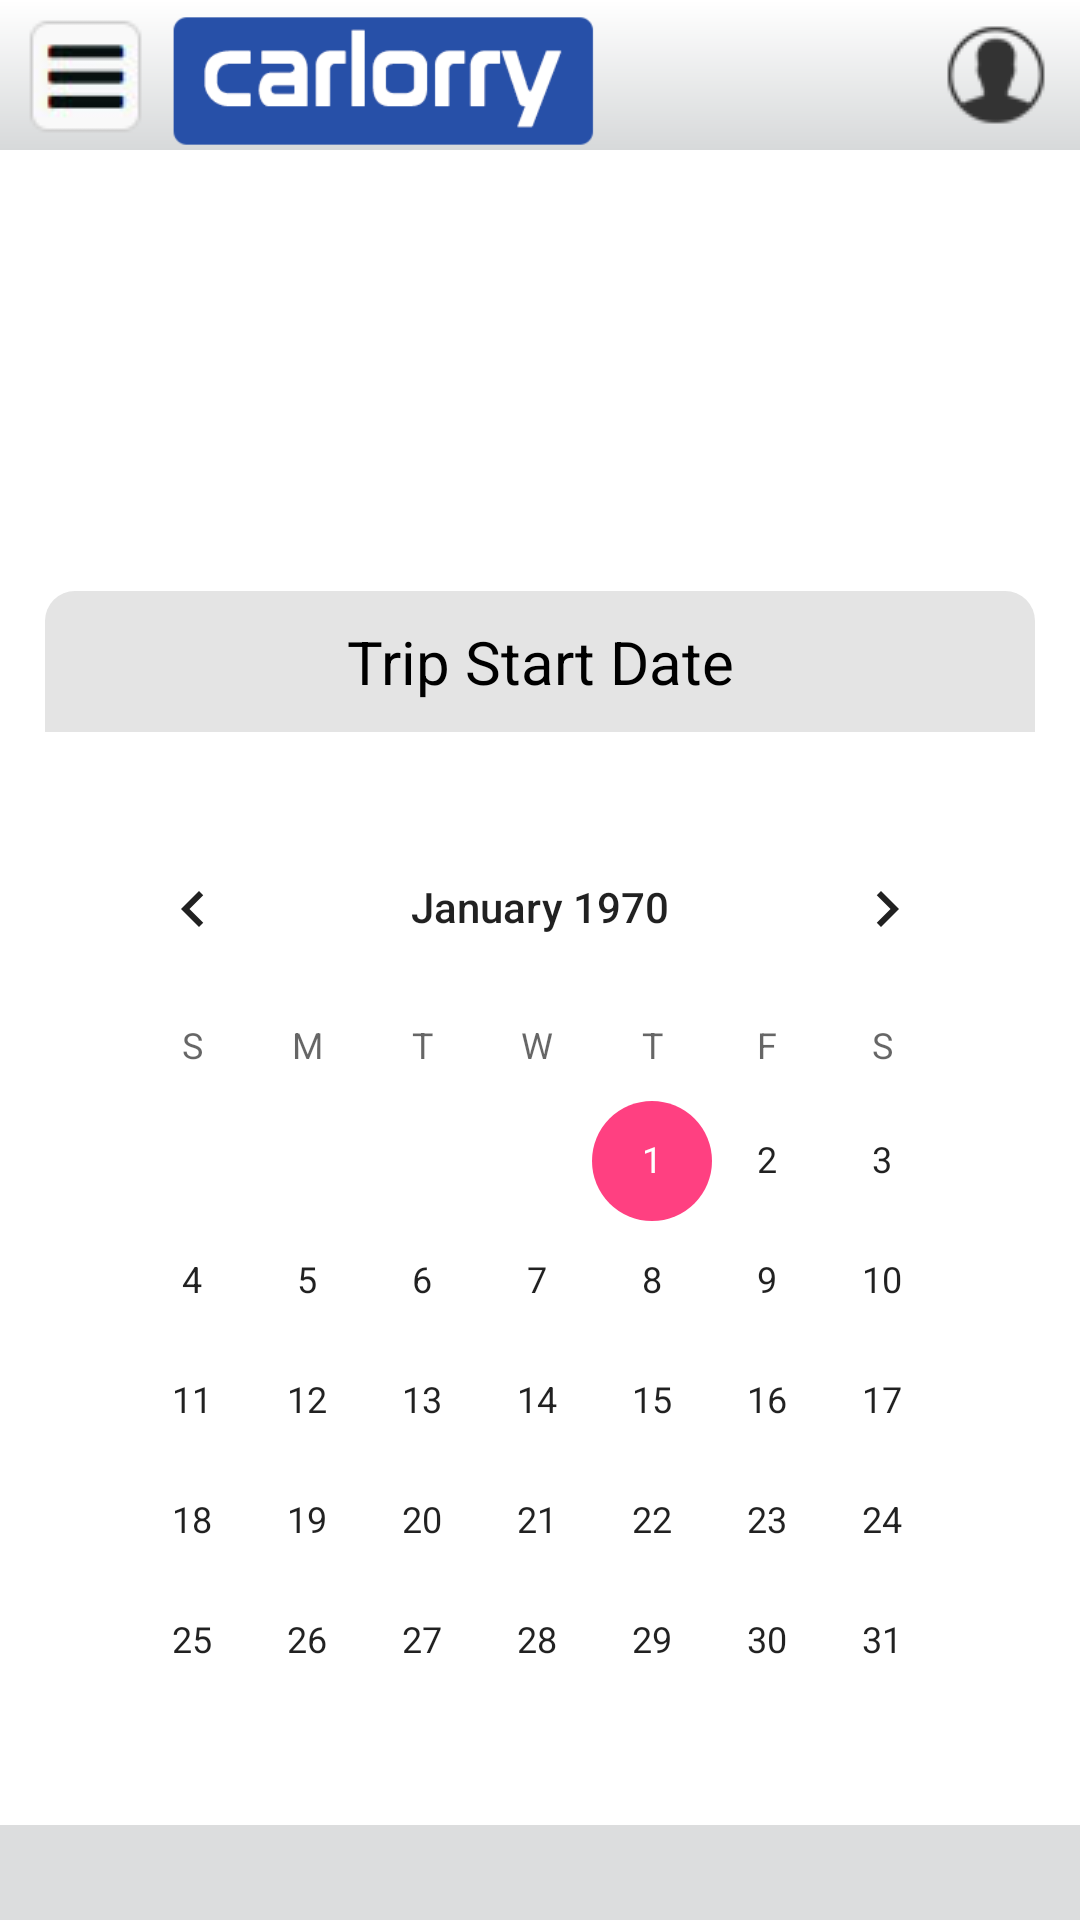

Icons on this 1080*1920 Android screen, each with the point to tap as point (x, y):
list main: point (84, 85)
user log: point (996, 88)
